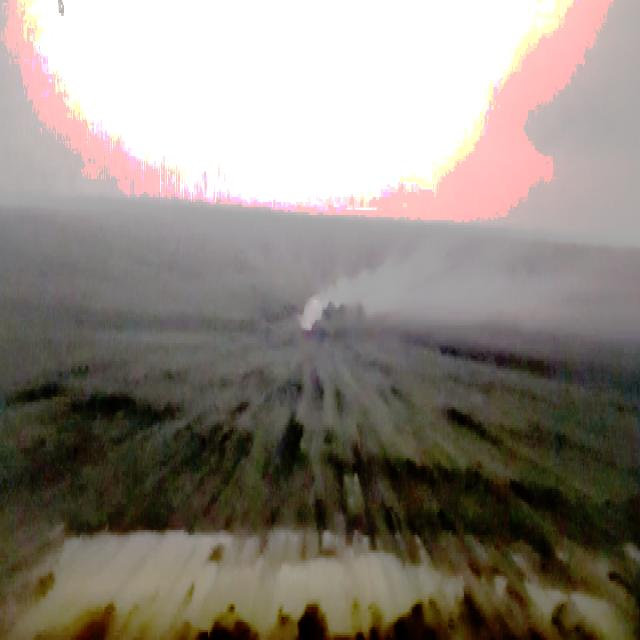asap: (295, 239, 455, 359)
